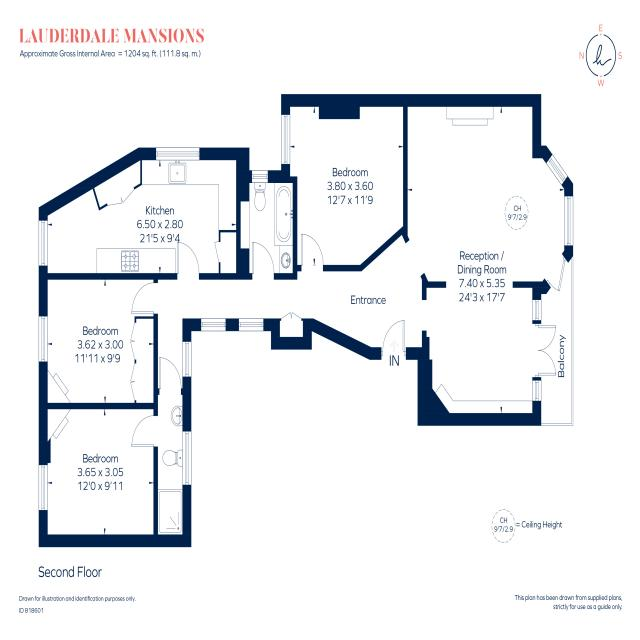DOOR: (379, 314, 409, 360), (129, 412, 159, 451), (543, 253, 570, 296), (300, 231, 327, 272), (250, 239, 277, 280), (175, 239, 202, 279), (129, 281, 158, 317), (158, 355, 183, 395)
DOUBLE DOOR: (531, 323, 558, 377)
ROOM: (37, 147, 253, 281), (280, 94, 408, 272), (40, 402, 158, 547), (38, 274, 159, 410)
WINDOW: (153, 142, 202, 163), (543, 151, 570, 189), (561, 192, 577, 249), (279, 110, 293, 167), (37, 460, 51, 514), (181, 427, 193, 490), (37, 312, 50, 364), (37, 216, 50, 268), (180, 338, 193, 379), (200, 315, 227, 334), (237, 316, 265, 333), (251, 167, 270, 185), (531, 295, 543, 322), (531, 378, 543, 403)
